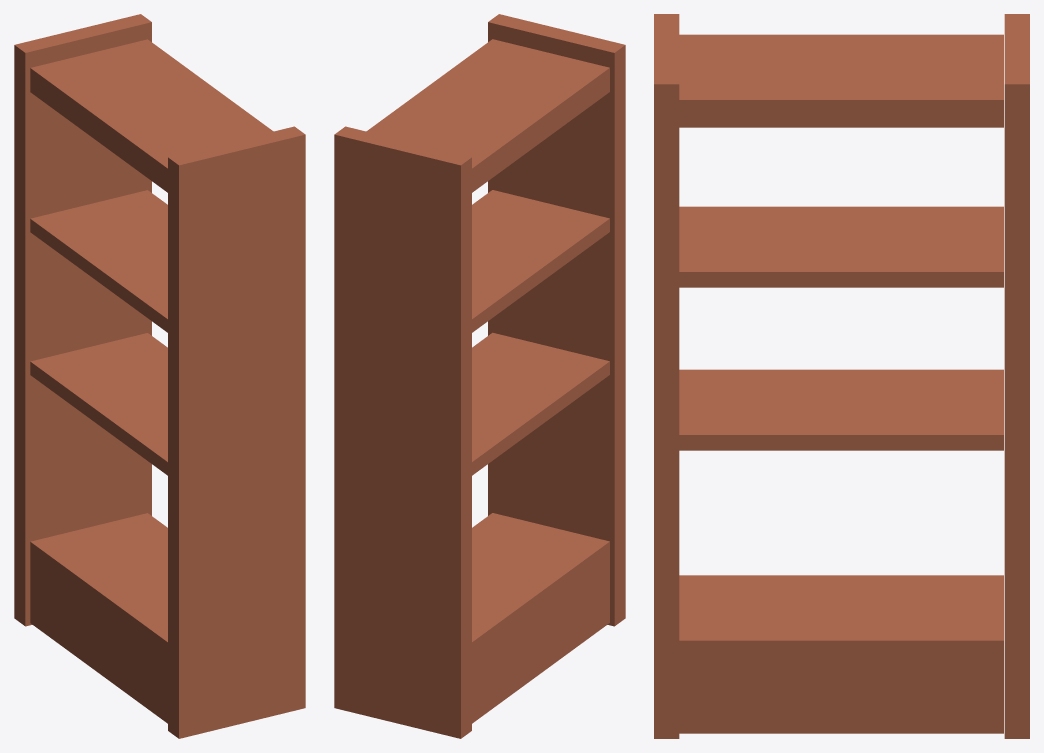
The model's file is SM_Shelf_A3_Empty.fbx.
The picture shows the model from 3 angles, left to right: view 1: azimuth 30°, elevation 25°; view 2: azimuth 150°, elevation 25°; view 3: azimuth 270°, elevation 25°; orthographic projection. The views are drawn at different scales.
Parts seen in each view (by area): view 1: SM_Shelf_A3_Empty; view 2: SM_Shelf_A3_Empty; view 3: SM_Shelf_A3_Empty.
Part boxes in pixels (x1,y1,x2,y2): SM_Shelf_A3_Empty: [14, 14, 305, 738]; SM_Shelf_A3_Empty: [334, 14, 625, 738]; SM_Shelf_A3_Empty: [654, 14, 1029, 738].
Size of the model in its own units: 36.28 by 157 by 81.81.
1 material, 1 textured.
